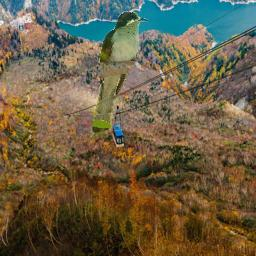Cuckoo: (90, 11, 148, 141)
